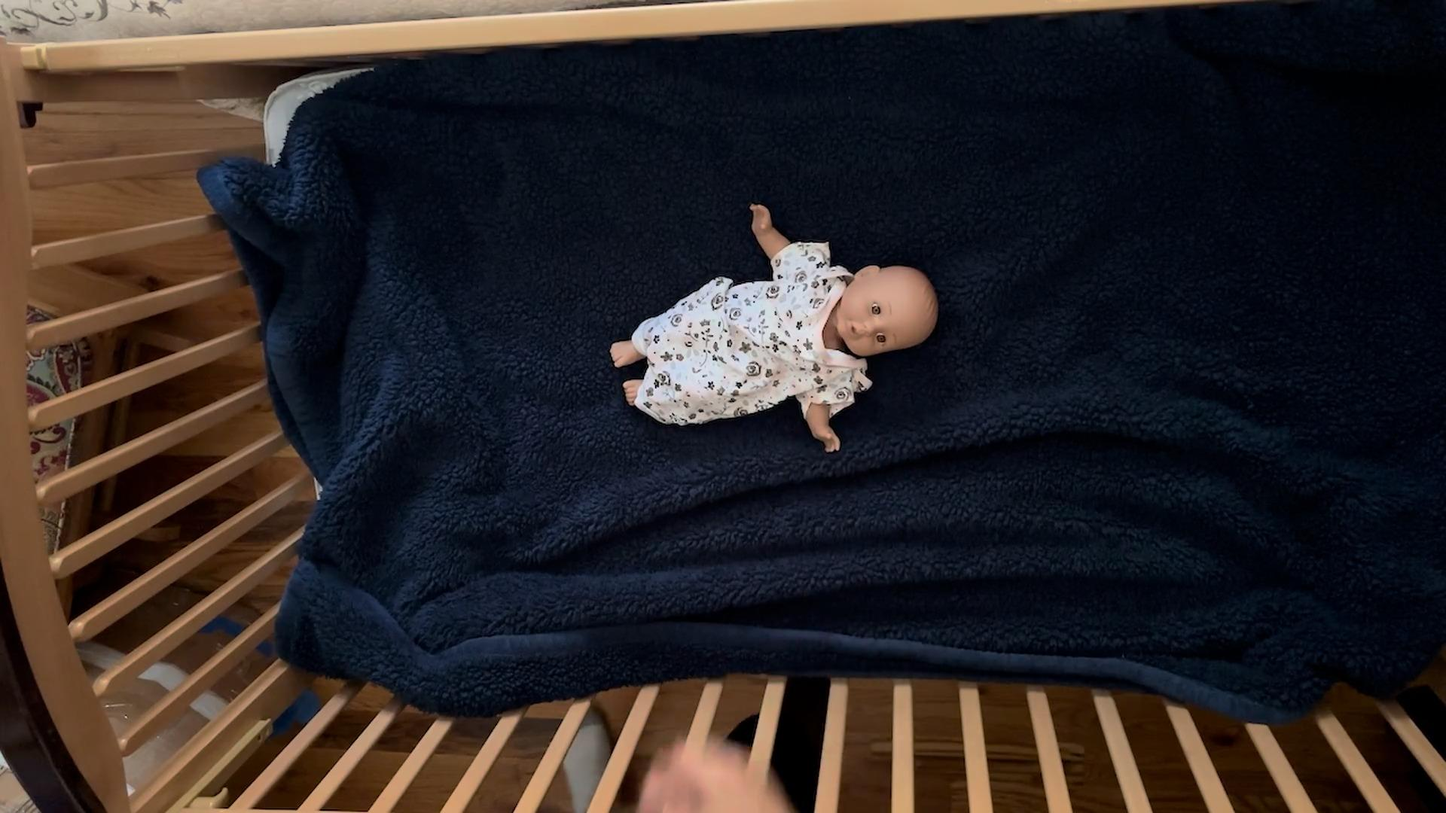baby: (603, 196, 946, 456)
